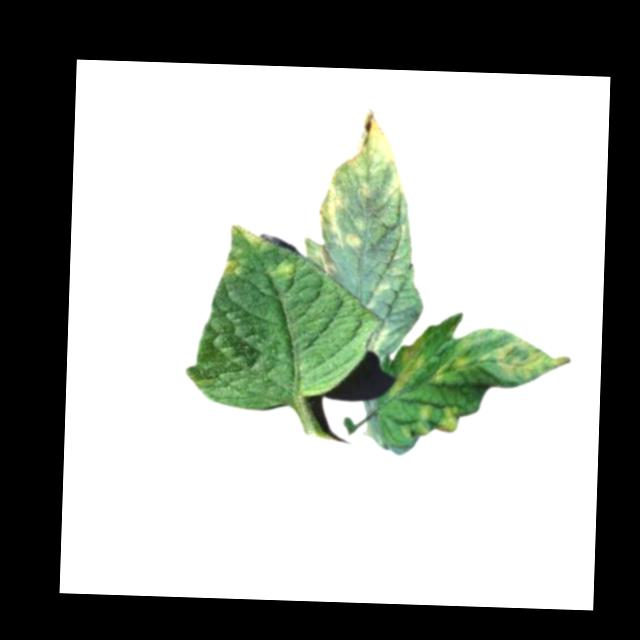Leaf_Mold: (344, 103, 408, 203), (490, 339, 576, 380), (390, 331, 426, 397), (401, 403, 462, 440), (228, 220, 273, 254), (317, 178, 345, 229), (343, 227, 366, 250), (273, 259, 296, 278), (223, 256, 245, 275)
